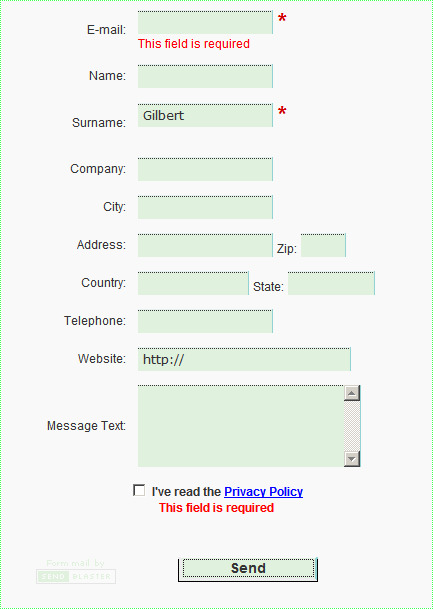_form_: (1, 181, 416, 597), (1, 1, 416, 416)
button: (175, 555, 319, 583)
checkbox_with_label: (128, 480, 304, 498)
field: (134, 384, 362, 468), (135, 346, 353, 372), (133, 102, 274, 129), (133, 194, 275, 220), (132, 64, 274, 89), (133, 157, 274, 182), (133, 308, 274, 333), (136, 10, 275, 35), (134, 232, 273, 257), (134, 270, 250, 296), (283, 271, 375, 295), (297, 233, 346, 256)
field_with_label: (47, 382, 363, 471), (76, 345, 355, 373), (72, 100, 277, 131), (72, 155, 276, 184), (63, 307, 276, 334), (76, 231, 275, 259), (90, 62, 276, 91), (87, 9, 277, 37), (103, 192, 276, 222), (82, 268, 252, 298), (256, 270, 377, 297), (276, 231, 348, 258)
radio: (131, 483, 148, 497)
